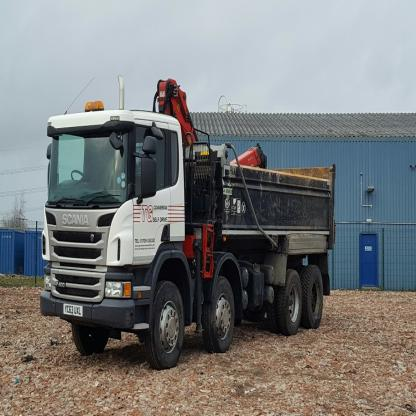dump_truck: (41, 66, 336, 380)
